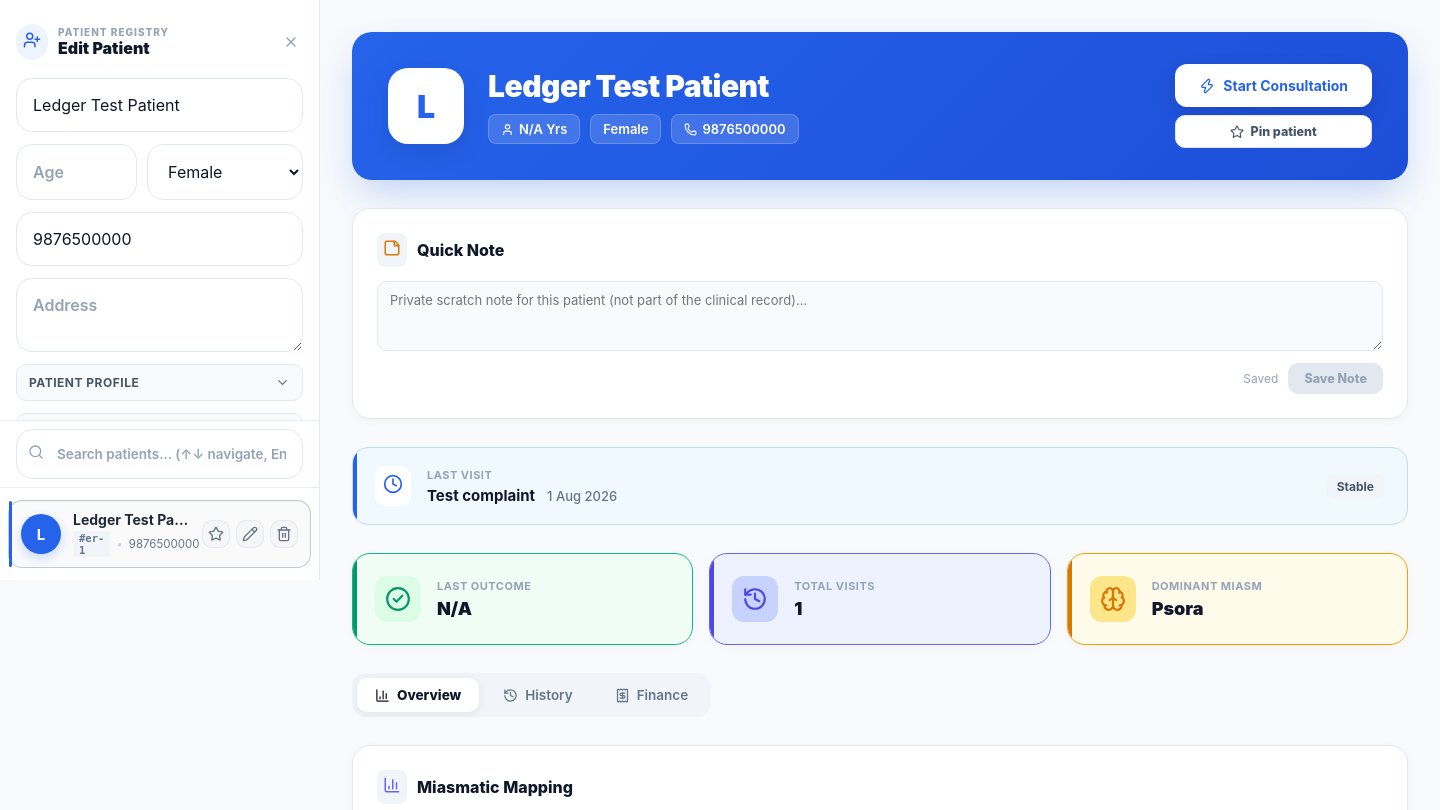
Scenario: Patient Ledger — payment reference/notes/screenshot › opens the payment screenshot viewer when 'View' is clicked
Click the button "Finance": (651, 695) [597,678,706,712]
(page scrolled)
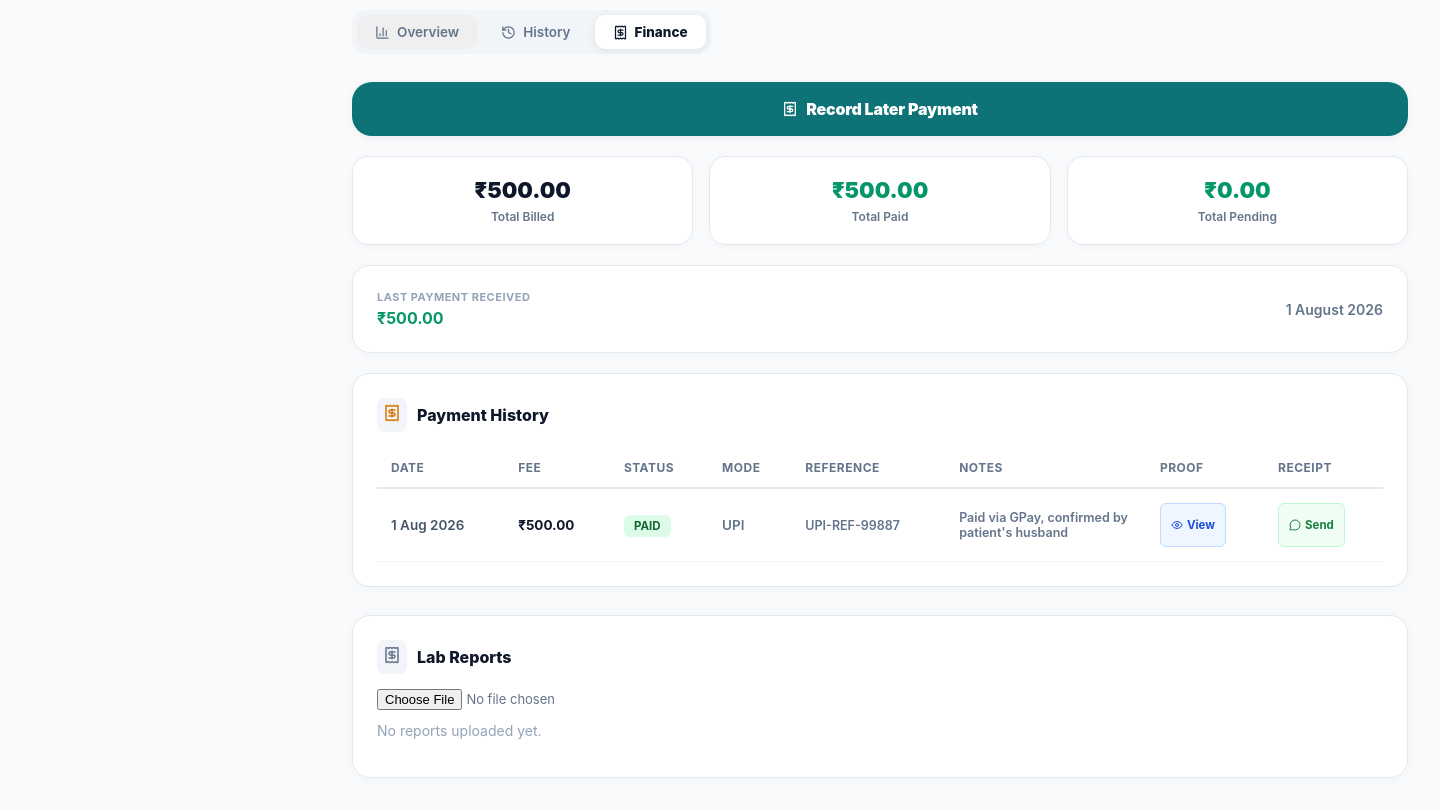
Click the button with test id "payment-proof-view-consult-1": (1193, 525) [1160,503,1226,547]
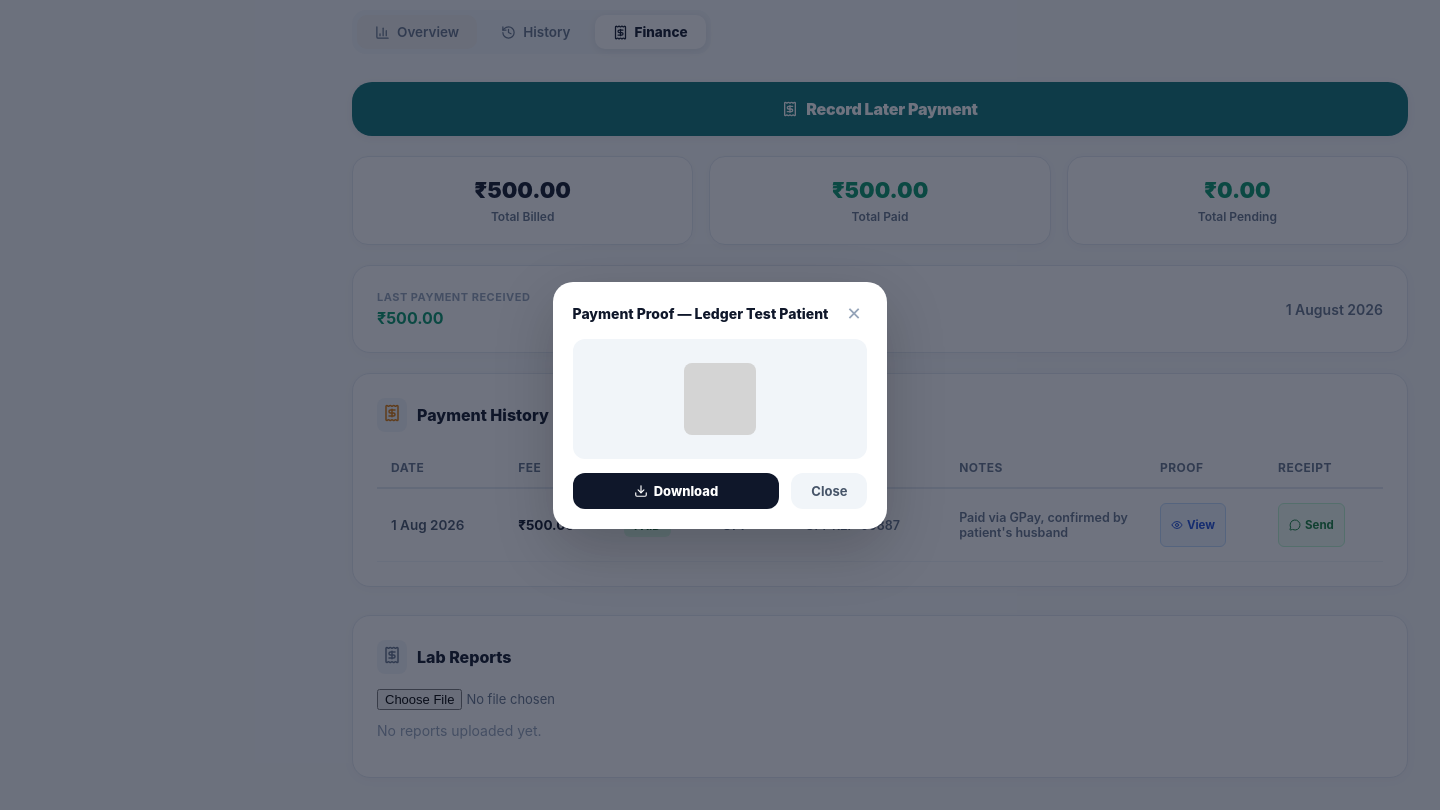
Now the text "Payment Proof — Ledger Test Patient" is shown, box [572,304,828,322]
